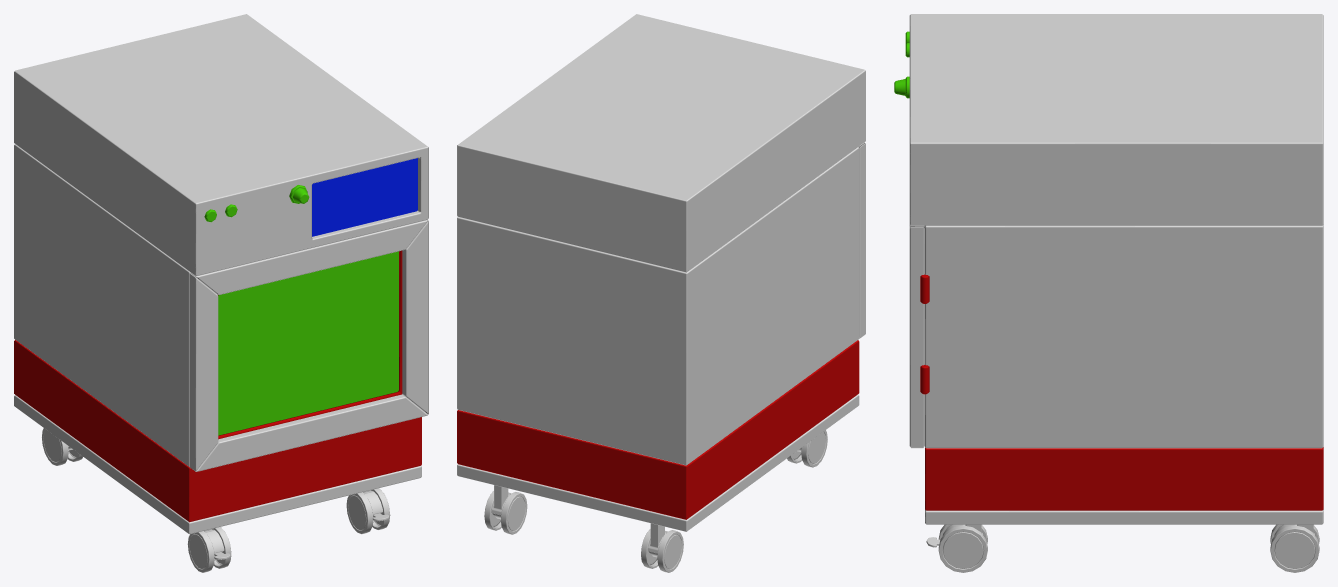
Rendered from Fridge02.fbx.
The picture shows the model from 3 angles, left to right: view 1: azimuth 30°, elevation 25°; view 2: azimuth 150°, elevation 25°; view 3: azimuth 270°, elevation 25°; orthographic projection. The views are drawn at different scales.
Visible parts, largest first — view 1: Fridge01b, Door, Wheels; view 2: Fridge01b, Wheels, Door; view 3: Fridge01b, Wheels, Door.
Part boxes in pixels (box(x1,y1,x2,y2)): Fridge01b: box(14, 14, 428, 534); Door: box(189, 220, 428, 471); Wheels: box(42, 428, 390, 572); Fridge01b: box(457, 14, 865, 531); Wheels: box(484, 430, 827, 572); Door: box(858, 142, 865, 338); Fridge01b: box(894, 14, 1323, 524); Wheels: box(926, 524, 1319, 572); Door: box(909, 225, 924, 448).
Size of the model in its own units: 50.75 by 70 by 80.
